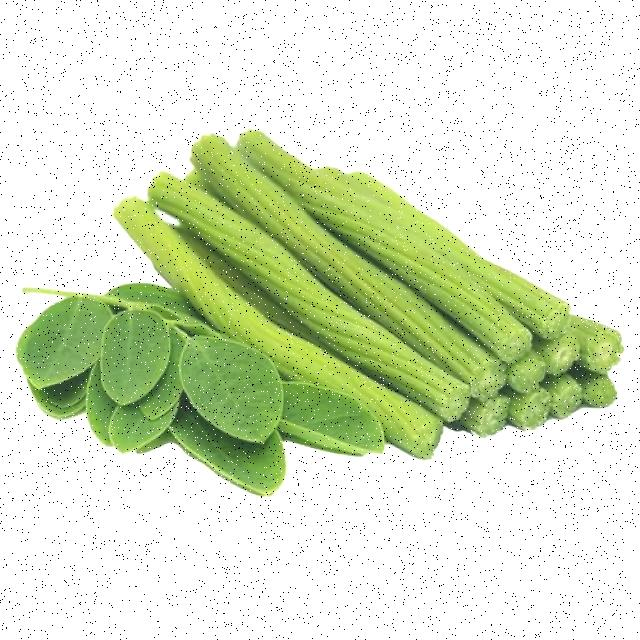Moringa Drumsticks: (125, 149, 601, 499)
